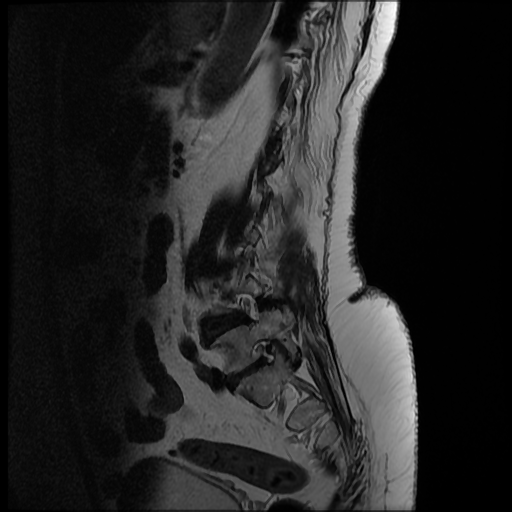LFS1: (245, 330, 287, 377)
